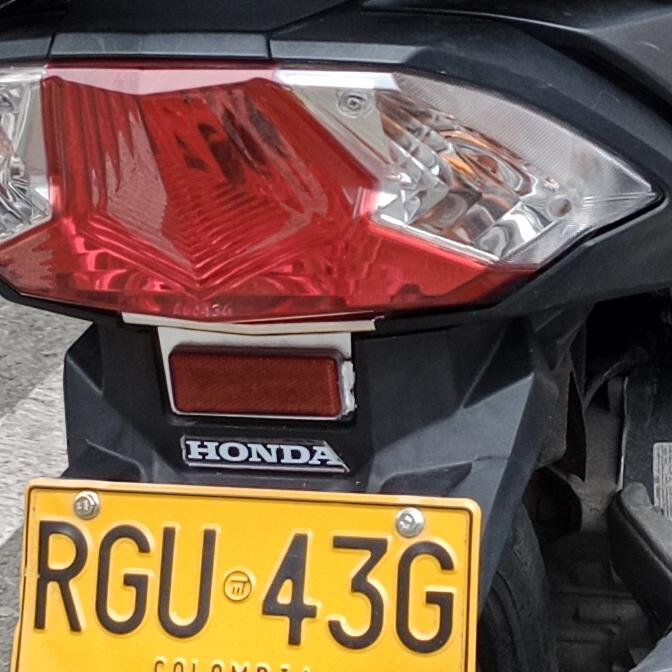plates: (8, 486, 494, 672)
